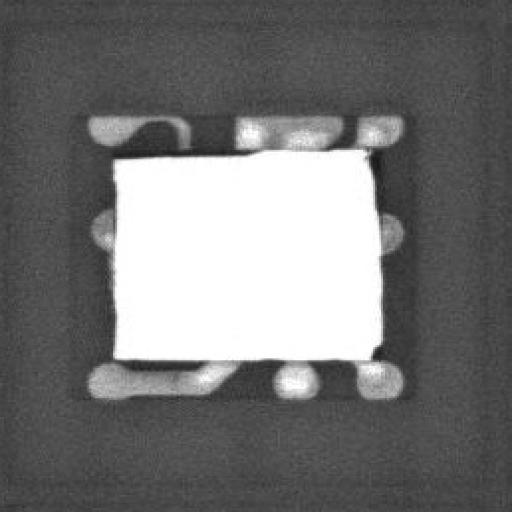DIE_BROKEN: (361, 146, 381, 248), (111, 148, 264, 161), (109, 157, 119, 353), (369, 336, 381, 360)
